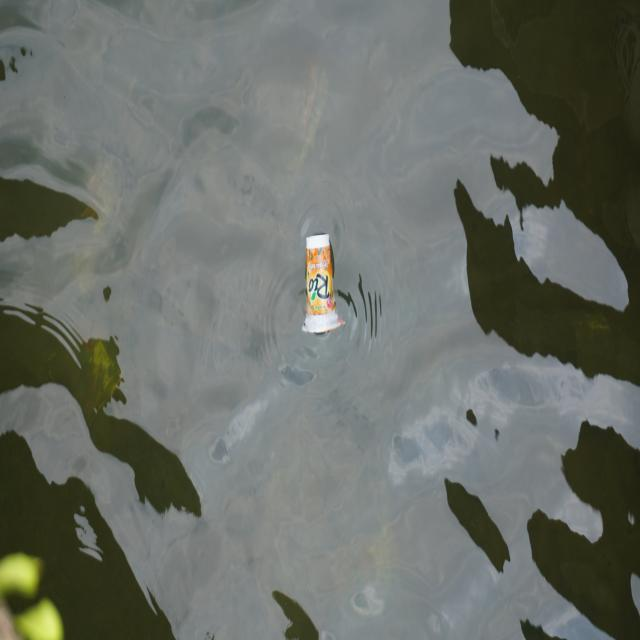Bungkus Minuman: (299, 225, 348, 345)
